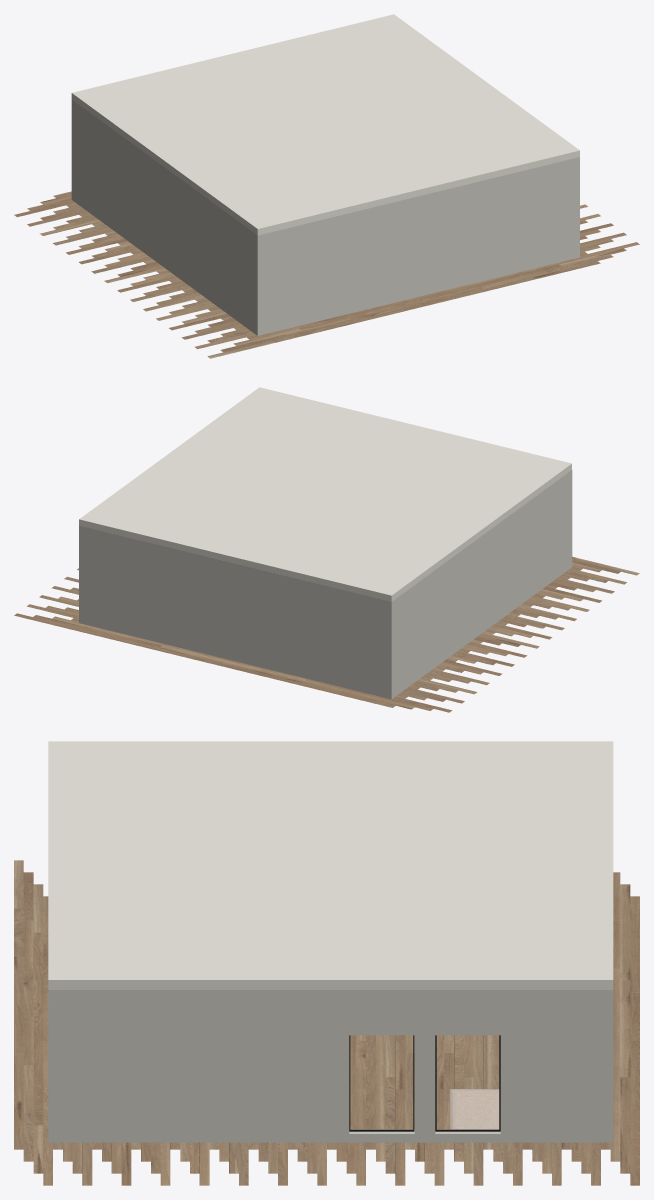
File: room.glb
3 views of the same model, one above another, from view 1: azimuth 30°, elevation 25°; view 2: azimuth 150°, elevation 25°; view 3: azimuth 270°, elevation 25° (orthographic). The views are drawn at different scales.
Visible parts, largest first — view 1: Ceiling, WallFront, WallLeft, Floor.001, WallBack; view 2: Ceiling, WallBack, WallLeft, Floor.001, WallFront; view 3: Ceiling, WallRight, Floor.001, Architectural_Model_008_04_Carpet_Baked, WallBack, WallFront.
Part boxes in pixels (x1,y1,x2,y2): Ceiling: [71, 14, 579, 235]; WallFront: [254, 157, 579, 335]; WallLeft: [75, 102, 254, 332]; Floor.001: [14, 191, 639, 358]; WallBack: [71, 99, 75, 201]; Ceiling: [79, 387, 571, 601]; WallBack: [79, 525, 394, 699]; WallLeft: [395, 472, 568, 696]; Floor.001: [14, 556, 639, 712]; WallFront: [568, 470, 572, 569]; Ceiling: [48, 741, 613, 989]; WallRight: [59, 990, 602, 1142]; Floor.001: [14, 860, 639, 1185]; Architectural_Model_008_04_Carpet_Baked: [449, 1089, 499, 1129]; WallBack: [602, 990, 613, 1142]; WallFront: [48, 990, 58, 1142].
Bounding box in the file's own units: 14.18 × 3.31 × 11.52.
33 materials, 16 textured.
